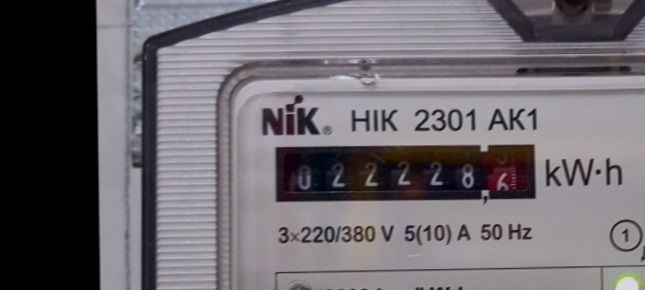0: (296, 160, 312, 189)
2: (329, 158, 348, 187), (428, 157, 446, 186), (395, 157, 413, 184), (363, 158, 380, 186)
5: (495, 144, 510, 165)
6: (495, 168, 511, 189)
8: (460, 159, 476, 188)
screen: (267, 130, 546, 209)
